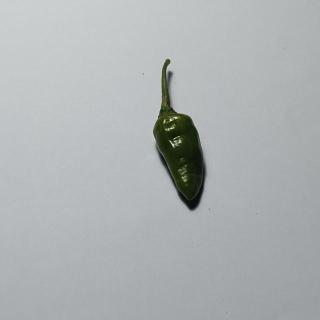Cabai Hijau: (148, 56, 212, 213)
